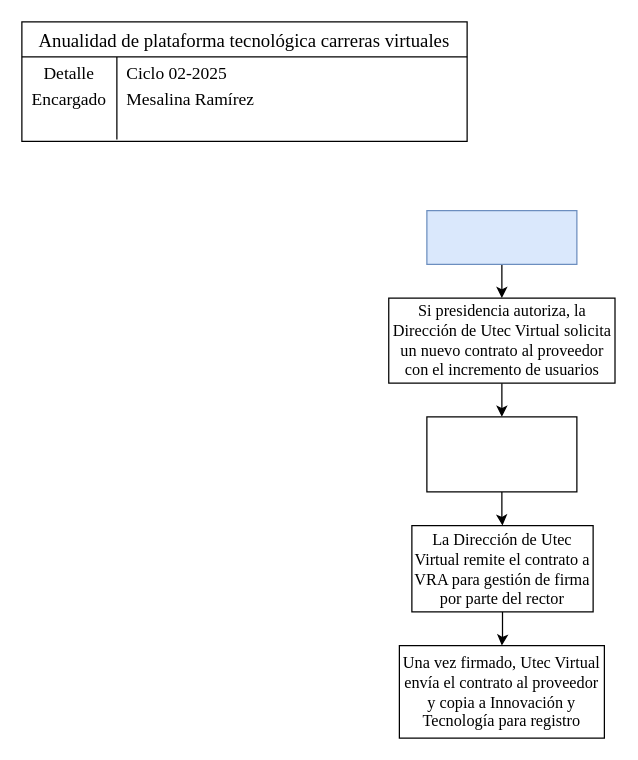
The diagram is 638 pixels wide and 760 high, and some of its shapes have lost their labels. Here are the shapes that lost their labels. From the top down, the centre of each, then its label:
the point at 501,236: Contratación y formalización
the point at 501,454: El proveedor envía el contrato actualizado a Utec Virtual por correo electrónico
